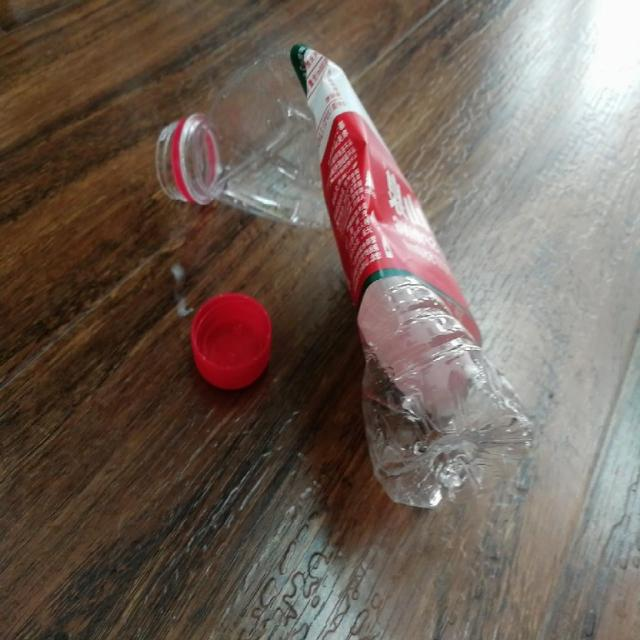plastic: (150, 40, 542, 538), (186, 289, 281, 391)
